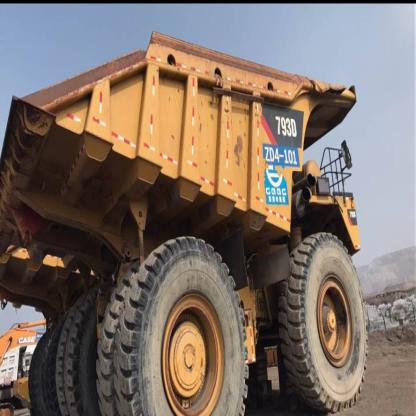dump_truck: (12, 17, 369, 416)
